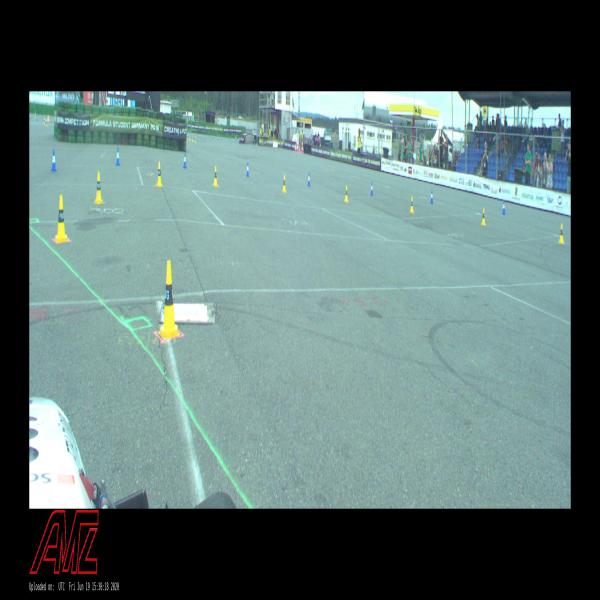blue_cone: (51, 150, 57, 172), (116, 147, 120, 166), (183, 152, 187, 168), (246, 162, 250, 177), (502, 200, 506, 215), (370, 182, 373, 196), (430, 190, 433, 204), (308, 173, 310, 186)
yellow_cone: (158, 261, 180, 340), (54, 195, 68, 243), (94, 172, 104, 204), (157, 162, 162, 186), (213, 167, 218, 186), (559, 224, 564, 243), (481, 208, 486, 226), (282, 175, 286, 192), (344, 185, 348, 202), (410, 196, 414, 213)
